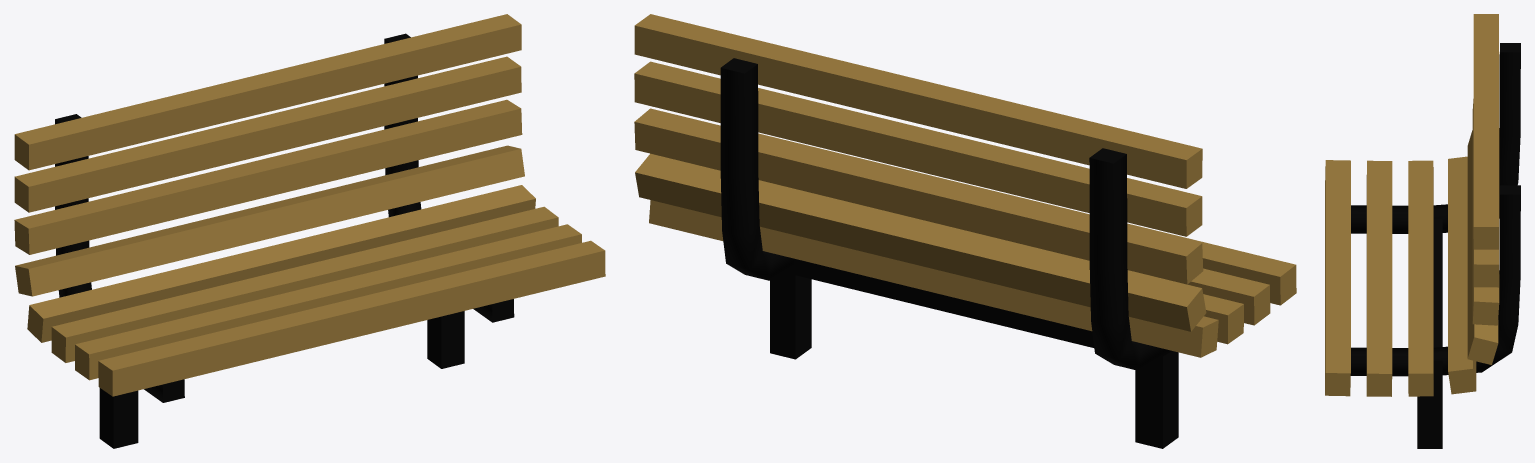
The model's file is bench.fbx.
3 renders of one model, left to right at view 1: azimuth 30°, elevation 25°; view 2: azimuth 150°, elevation 25°; view 3: azimuth 270°, elevation 25°, orthographic. The views are drawn at different scales.
Visible parts, largest first — view 1: Box010, Box009, Box003, Box008, Box007, Box006, Box005, Box004, Box001, Rectangle002, Rectangle001; view 2: Box010, Box007, Box008, Box009, Box001, Box006, Rectangle001, Rectangle002, Box003, Box004, Box005; view 3: Box004, Box005, Box003, Box010, Rectangle002, Box006, Rectangle001, Box001, Box007, Box008, Box009.
Boxes of the visible parts, <box> form: Box010: <box>14,14,521,170</box>; Box009: <box>14,56,521,212</box>; Box003: <box>98,240,605,396</box>; Box008: <box>14,99,522,254</box>; Box007: <box>15,145,524,296</box>; Box006: <box>27,185,535,342</box>; Box005: <box>51,206,558,362</box>; Box004: <box>75,224,581,380</box>; Box001: <box>99,311,464,448</box>; Rectangle002: <box>384,33,514,322</box>; Rectangle001: <box>55,114,184,402</box>; Box010: <box>634,14,1202,188</box>; Box007: <box>635,153,1206,331</box>; Box008: <box>634,108,1203,284</box>; Box009: <box>634,61,1202,236</box>; Box001: <box>770,258,1178,448</box>; Box006: <box>649,200,1218,357</box>; Rectangle001: <box>1089,148,1171,370</box>; Rectangle002: <box>720,58,794,280</box>; Box003: <box>758,133,1296,305</box>; Box004: <box>1187,268,1270,325</box>; Box005: <box>1203,294,1243,344</box>; Box004: <box>1366,160,1392,396</box>; Box005: <box>1408,160,1433,396</box>; Box003: <box>1325,160,1350,396</box>; Box010: <box>1473,14,1498,249</box>; Rectangle002: <box>1350,185,1520,376</box>; Box006: <box>1448,156,1476,394</box>; Rectangle001: <box>1351,43,1520,233</box>; Box001: <box>1417,218,1442,448</box>; Box007: <box>1467,130,1498,364</box>; Box008: <box>1472,99,1499,325</box>; Box009: <box>1474,52,1499,287</box>.
Size of the model in its own units: 200 by 77.72 by 114.
